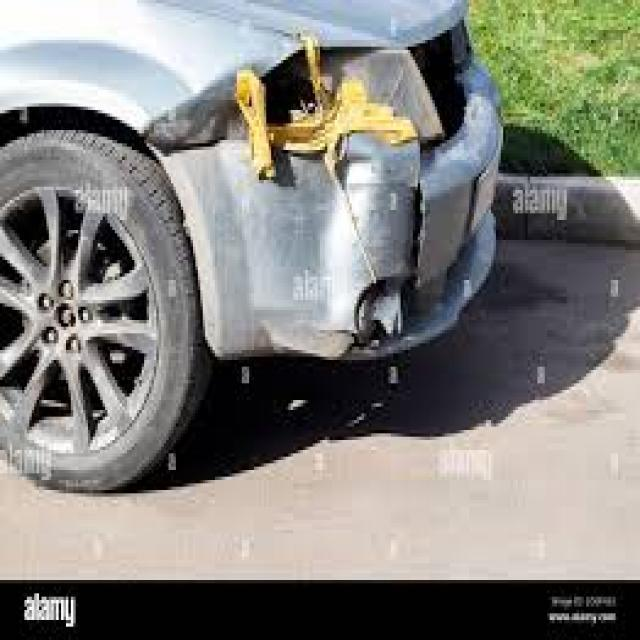damaged-head-light: (240, 50, 446, 140)
